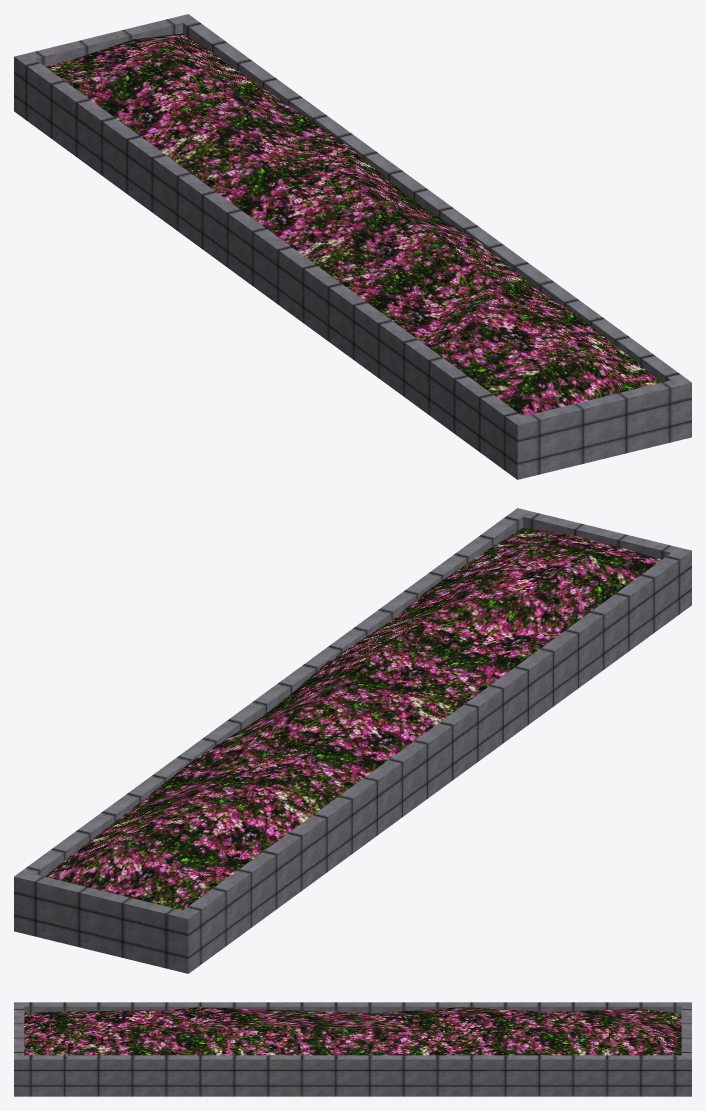
Rendered from SM_FrowPot_v01.FBX.
3 views of the same model, one above another, from view 1: azimuth 30°, elevation 25°; view 2: azimuth 150°, elevation 25°; view 3: azimuth 270°, elevation 25° (orthographic). The views are drawn at different scales.
Parts seen in each view (by area): view 1: SM_FrowPot_v01; view 2: SM_FrowPot_v01; view 3: SM_FrowPot_v01.
Boxes of the visible parts, x1,y1,x2,y2 form: SM_FrowPot_v01: (14,14,691,479); SM_FrowPot_v01: (14,508,691,973); SM_FrowPot_v01: (14,1002,691,1096).
Size of the model in its own units: 2 by 0.8227 by 10.02.
